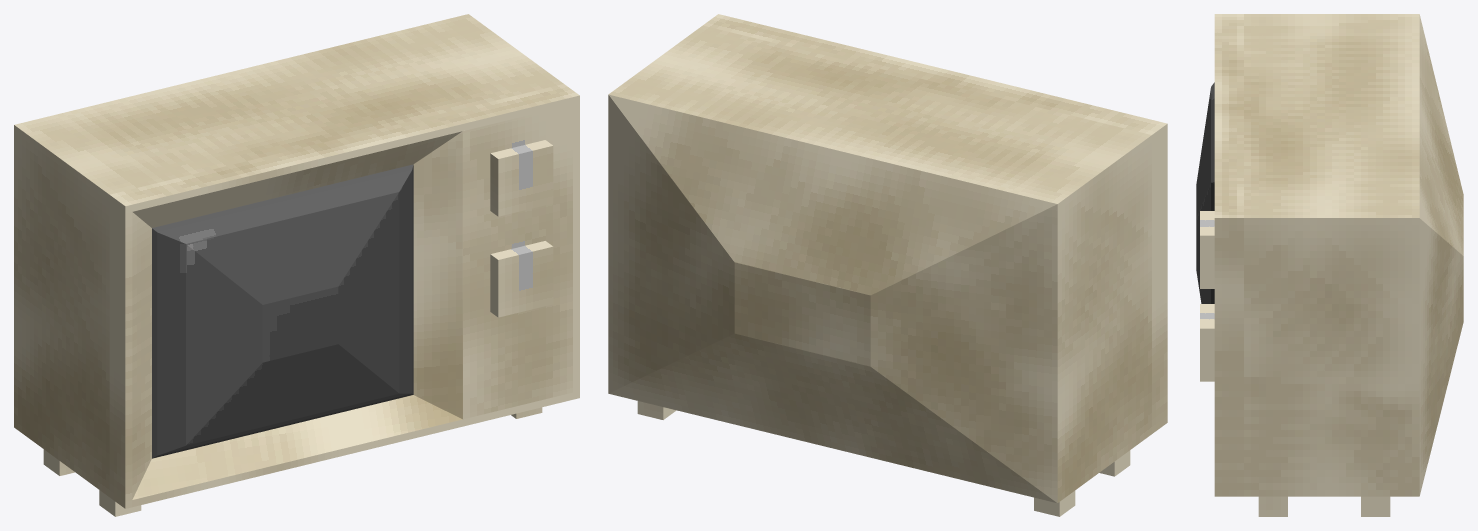
File: Old TV + Texture.gltf
3 views of the same model, side by side, from view 1: azimuth 30°, elevation 25°; view 2: azimuth 150°, elevation 25°; view 3: azimuth 270°, elevation 25° (orthographic). The views are drawn at different scales.
Visible parts, largest first — view 1: cuboid; view 2: cuboid; view 3: cuboid.
Boxes of the visible parts, x1,y1,x2,y2 form: cuboid: (14, 14, 579, 516); cuboid: (608, 14, 1167, 516); cuboid: (1196, 14, 1463, 516).
Size of the model in its own units: 2.06 by 1.44 by 1.14.
Materials: 1 (1 with a texture image).
